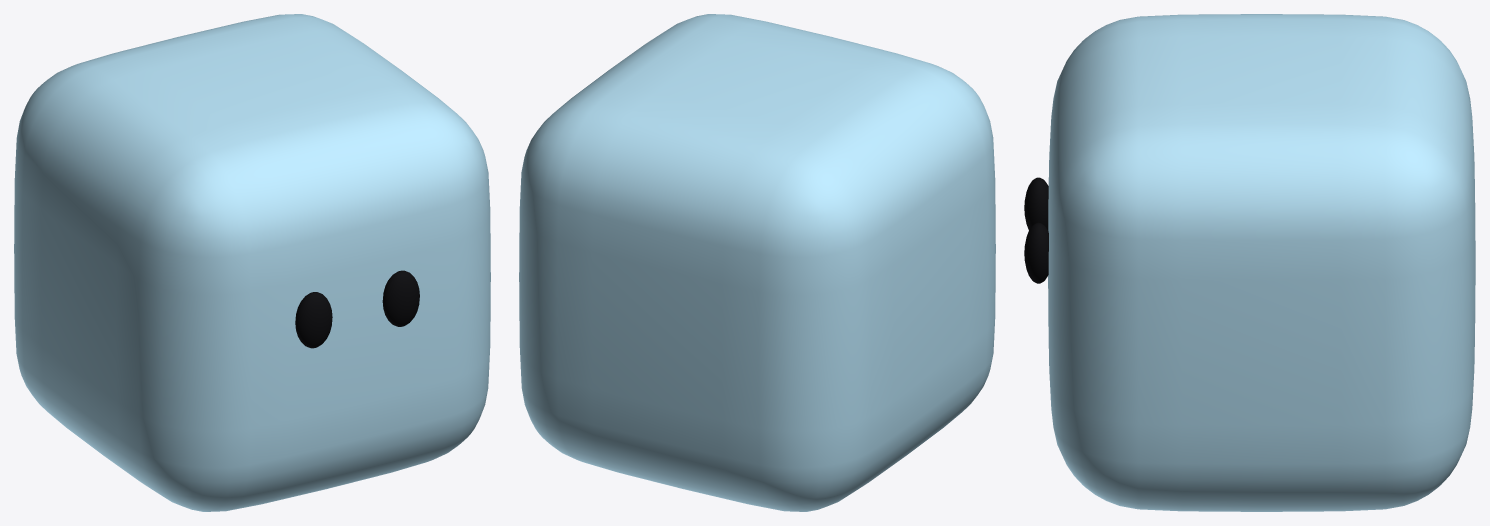
Rendered from Ice.glb.
3 renders of one model, left to right at view 1: azimuth 30°, elevation 25°; view 2: azimuth 150°, elevation 25°; view 3: azimuth 270°, elevation 25°, orthographic. The views are drawn at different scales.
Parts seen in each view (by area): view 1: Cube, Sphere.001, Sphere; view 2: Cube; view 3: Cube, Sphere.001, Sphere.
Boxes of the visible parts, left/top/right/bottom form: Cube: left=14, top=14, right=490, bottom=511; Sphere.001: left=382, top=270, right=419, bottom=326; Sphere: left=295, top=292, right=332, bottom=348; Cube: left=519, top=14, right=995, bottom=511; Cube: left=1048, top=14, right=1475, bottom=511; Sphere.001: left=1024, top=222, right=1048, bottom=283; Sphere: left=1024, top=177, right=1048, bottom=230.
Size of the model in its own units: 0.2395 by 0.2395 by 0.2528.
